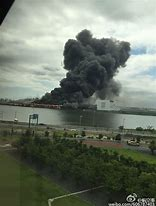smoke: (40, 29, 132, 102)
